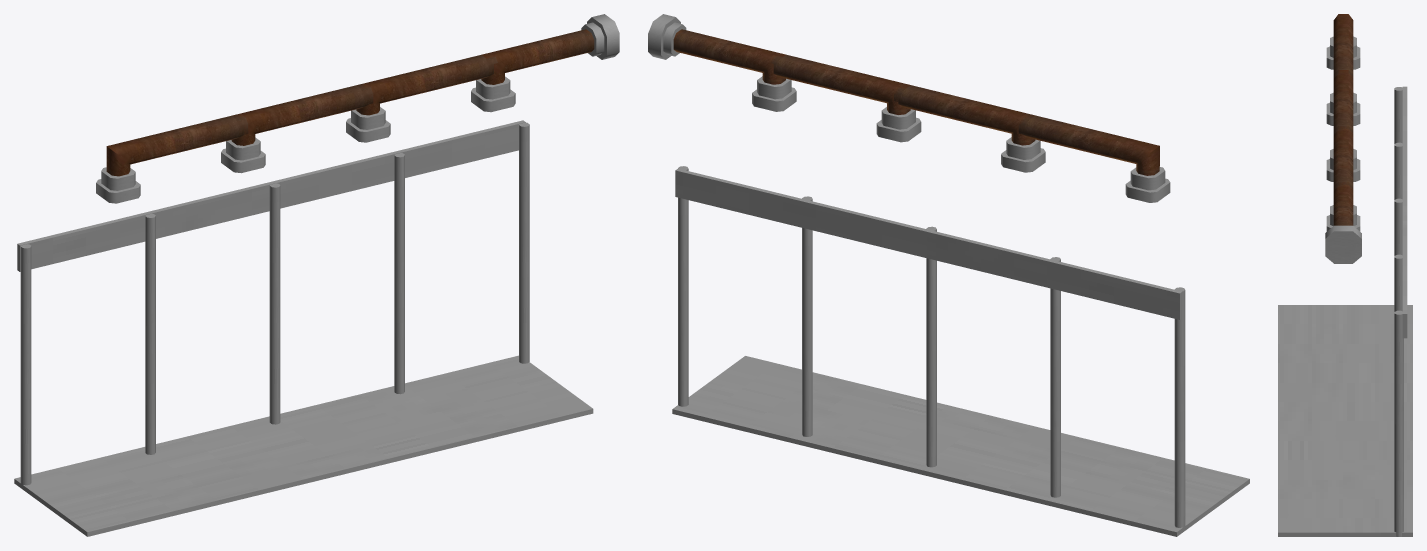
Rendered from oxygen_filling_station.glb.
3 renders of one model, left to right at view 1: azimuth 30°, elevation 25°; view 2: azimuth 150°, elevation 25°; view 3: azimuth 270°, elevation 25°, orthographic. The views are drawn at different scales.
Parts seen in each view (by area): view 1: Oxygen Filling Station; view 2: Oxygen Filling Station; view 3: Oxygen Filling Station.
Boxes of the visible parts, <box> form: Oxygen Filling Station: <box>14,14,619,536</box>; Oxygen Filling Station: <box>648,14,1249,536</box>; Oxygen Filling Station: <box>1278,14,1412,536</box>.
Size of the model in its own units: 2.42 by 1.48 by 0.55.
Materials: 2 (2 with a texture image).
